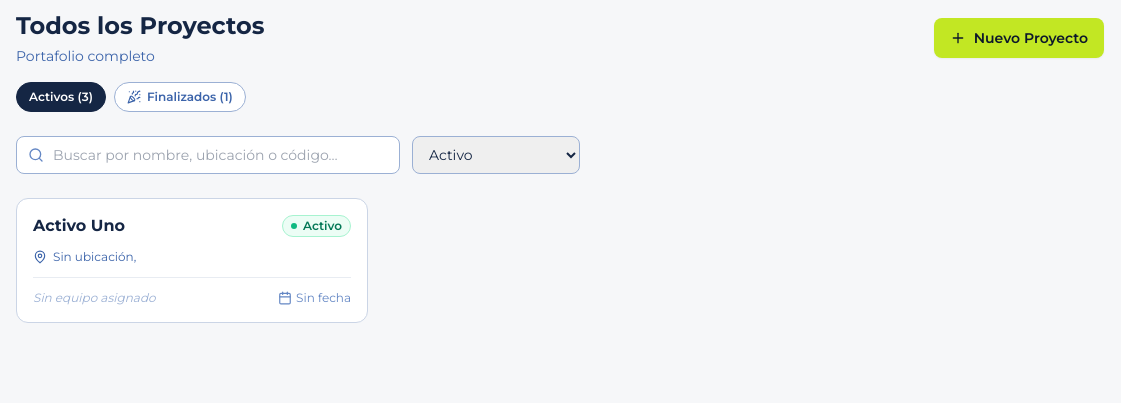
Test: lo que la búsqueda encuentra pero el filtro esconde › un finalizado escondido lleva a la pestaña de finalizados
In the field with placeholder "Buscar por nombre, ubicación o código…": (208, 155) x1=16 y1=136 x2=400 y2=174, type "cuatro"
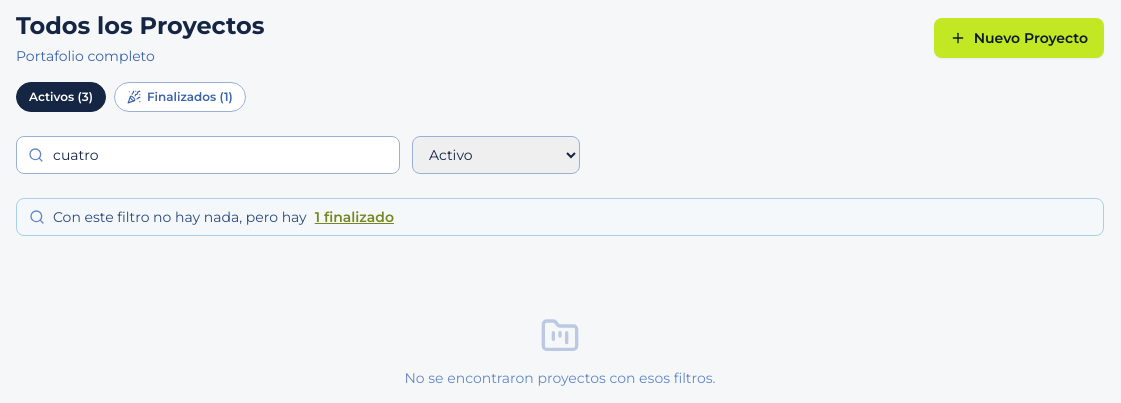
Click the button "1 finalizado": (354, 217) x1=315 y1=207 x2=394 y2=227
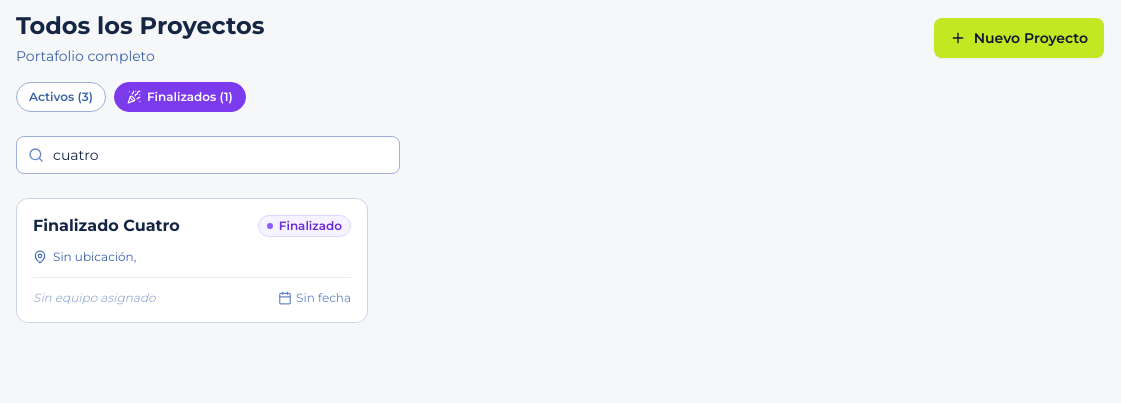
Expected: the heading "Finalizado Cuatro" is shown, x1=33 y1=215 x2=180 y2=237
